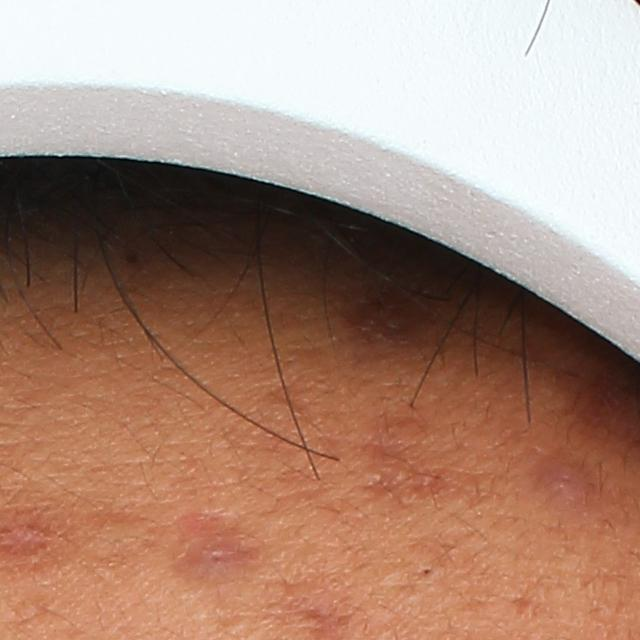comedo: (418, 564, 441, 578)
